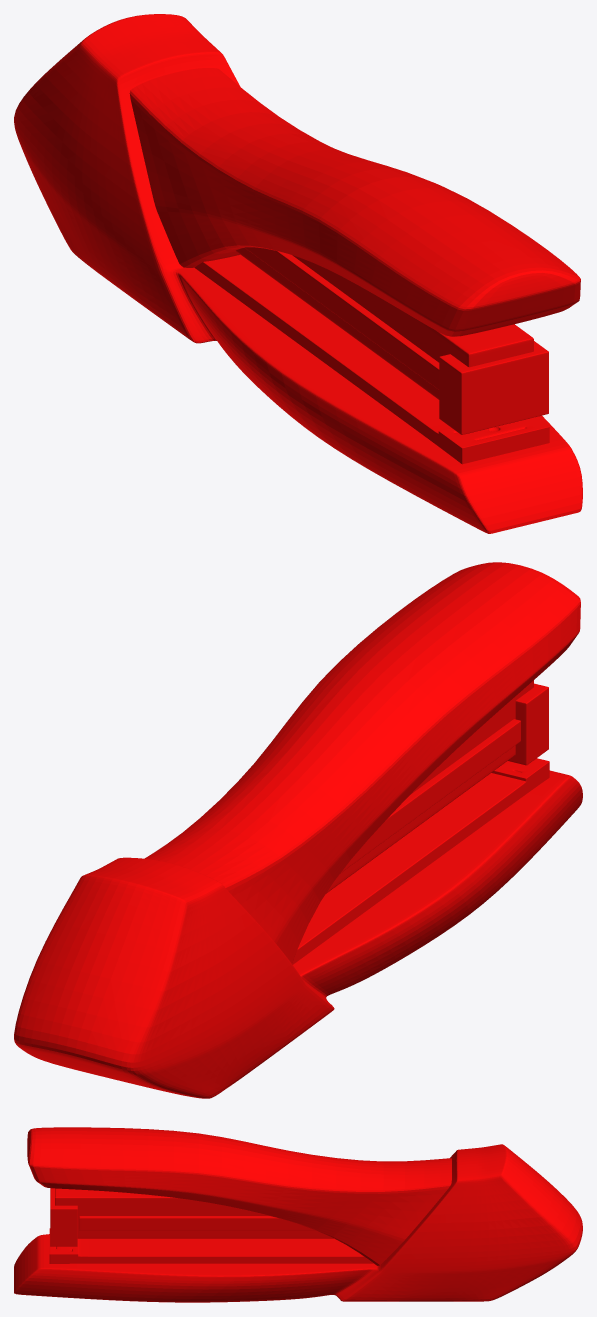
Rendered from Stapler.dae.
3 views of the same model, one above another, from view 1: azimuth 30°, elevation 25°; view 2: azimuth 150°, elevation 25°; view 3: azimuth 270°, elevation 25° (orthographic). The views are drawn at different scales.
Parts seen in each view (by area): view 1: Stapler.stl; view 2: Stapler.stl; view 3: Stapler.stl.
Part boxes in pixels (x1,y1,x2,y2): Stapler.stl: (14,14,582,533); Stapler.stl: (14,562,582,1098); Stapler.stl: (14,1127,582,1302).
Size of the model in its own units: 0.0381 by 0.1772 by 0.0505.
